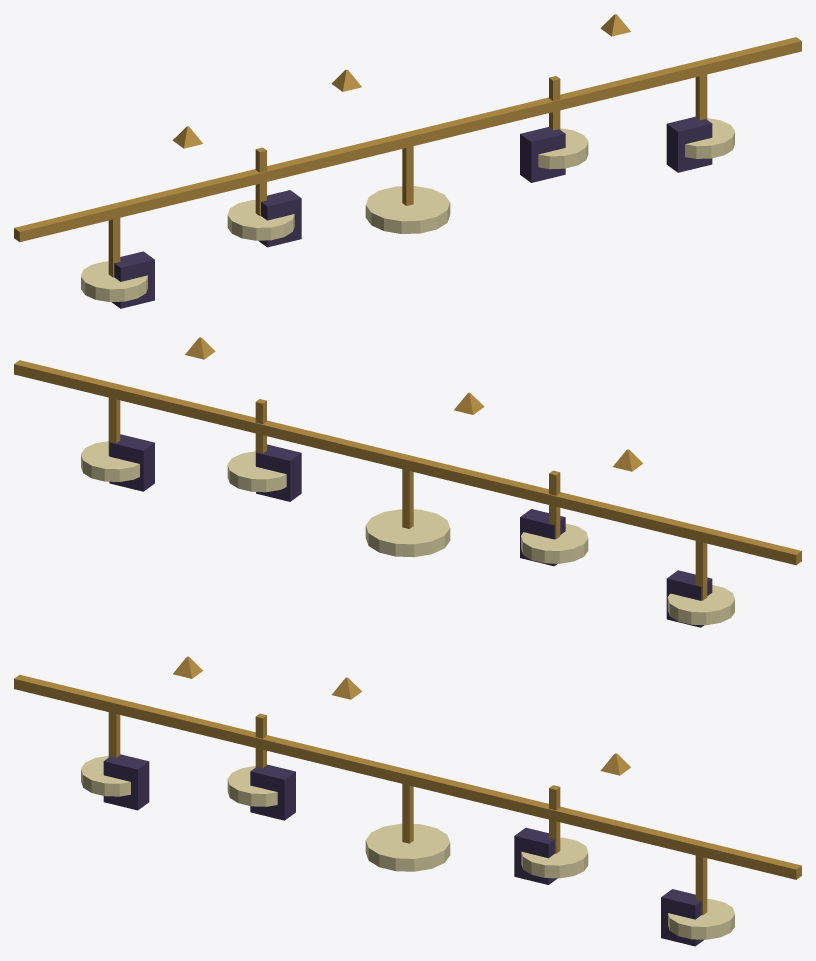
File: moon_garland.obj
The picture shows the model from 3 angles, top to bottom: view 1: azimuth 30°, elevation 25°; view 2: azimuth 150°, elevation 25°; view 3: azimuth 330°, elevation 25°; orthographic projection.
Size of the model in its own units: 3.2 by 0.685 by 0.2925.
